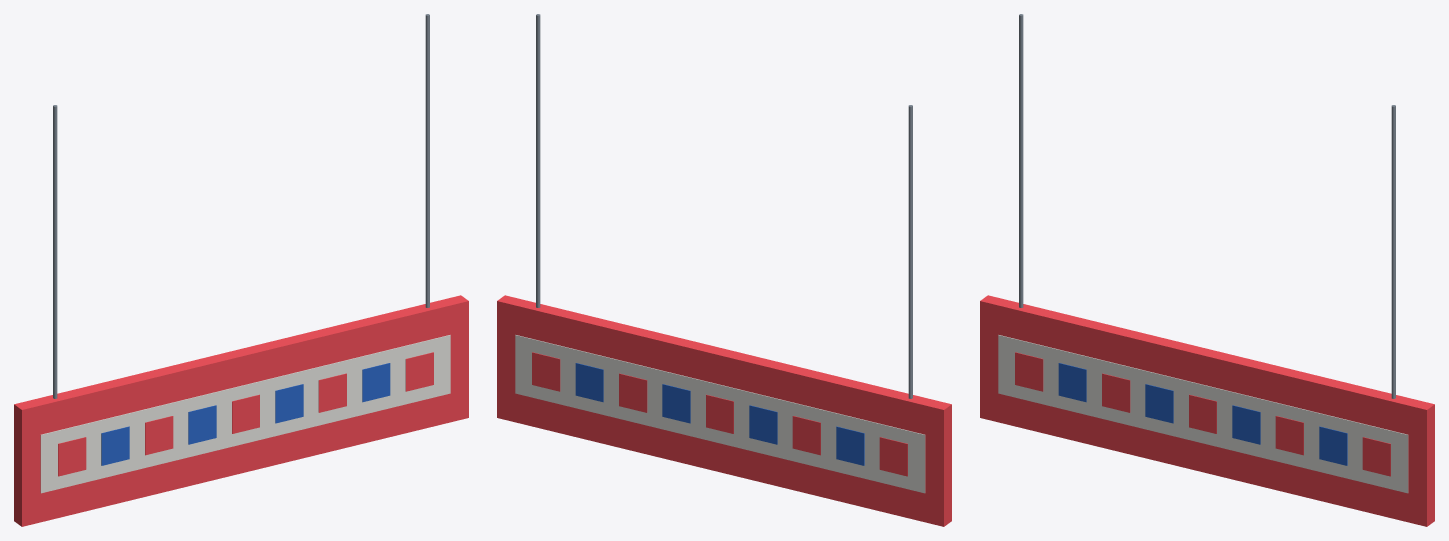
File: dept-sign.glb
3 views of the same model, side by side, from view 1: azimuth 30°, elevation 25°; view 2: azimuth 150°, elevation 25°; view 3: azimuth 330°, elevation 25° (orthographic).
Parts seen in each view (by area): view 1: dept-sign; view 2: dept-sign; view 3: dept-sign.
Part boxes in pixels (<box>): dept-sign: <box>14,14,468,526</box>; dept-sign: <box>497,14,951,526</box>; dept-sign: <box>980,14,1434,526</box>.
Bounding box in the file's own units: 7.2 × 6.3 × 0.26.
